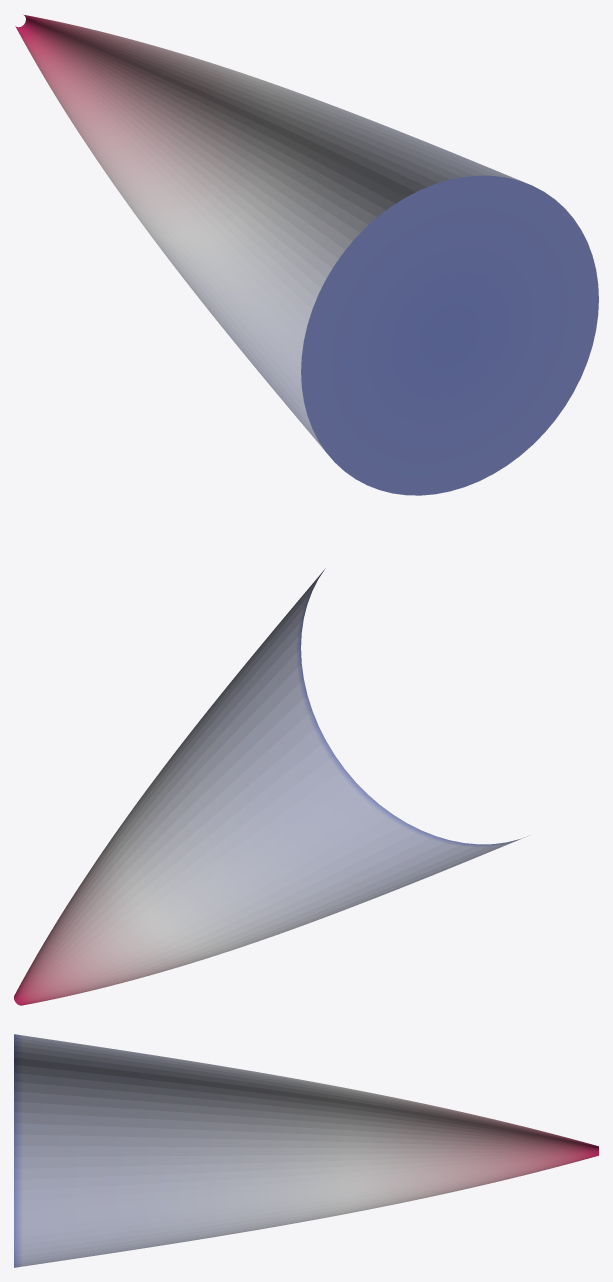
File: frame_036.glb
3 renders of one model, top to bottom at view 1: azimuth 30°, elevation 25°; view 2: azimuth 150°, elevation 25°; view 3: azimuth 270°, elevation 25°, orthographic. The views are drawn at different scales.
Visible parts, largest first — view 1: world; view 2: world; view 3: world.
Boxes of the visible parts, bbox=[...] form: world: bbox=[15, 14, 598, 495]; world: bbox=[14, 568, 527, 1005]; world: bbox=[14, 1034, 598, 1267].
Size of the model in its own units: 0.4 by 0.4 by 1.
